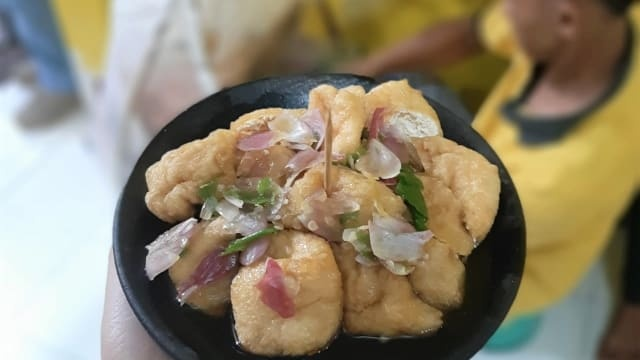tahu_gejrot: (145, 77, 503, 358)
